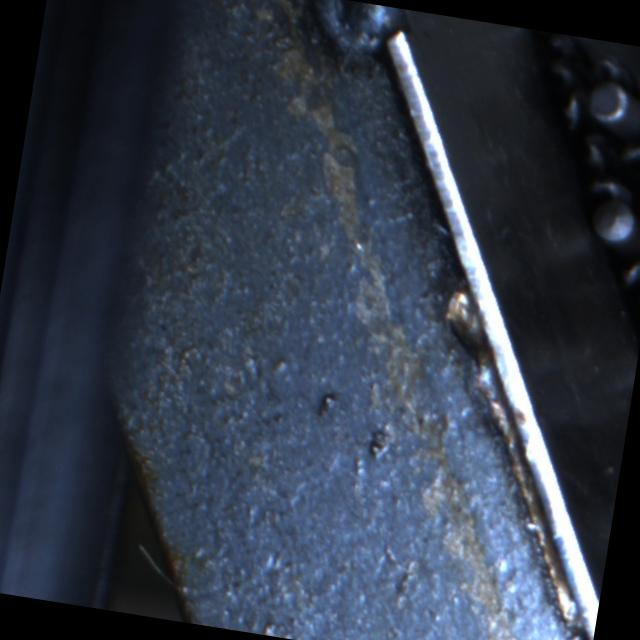tool: (586, 80, 633, 128), (591, 202, 637, 245)
tool_b: (566, 125, 618, 174), (548, 85, 592, 134), (611, 252, 640, 314), (609, 133, 640, 184), (581, 175, 628, 208), (586, 49, 626, 85), (543, 58, 581, 86), (544, 32, 576, 58)
